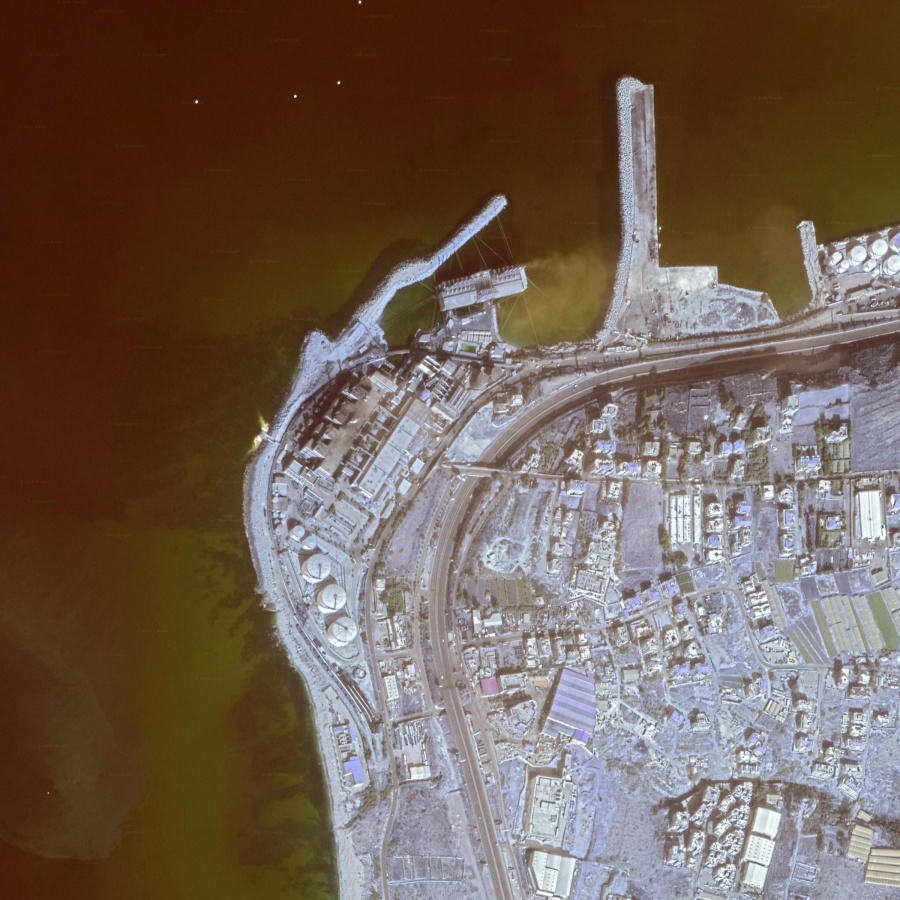PowerPlant: (235, 253, 531, 651)
